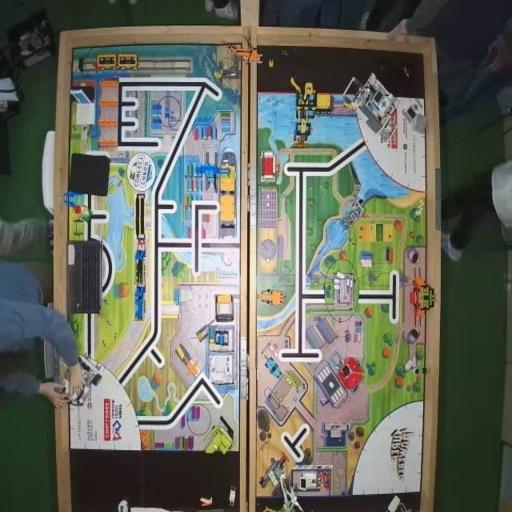lego_robot: (342, 72, 398, 142), (60, 354, 102, 406)
